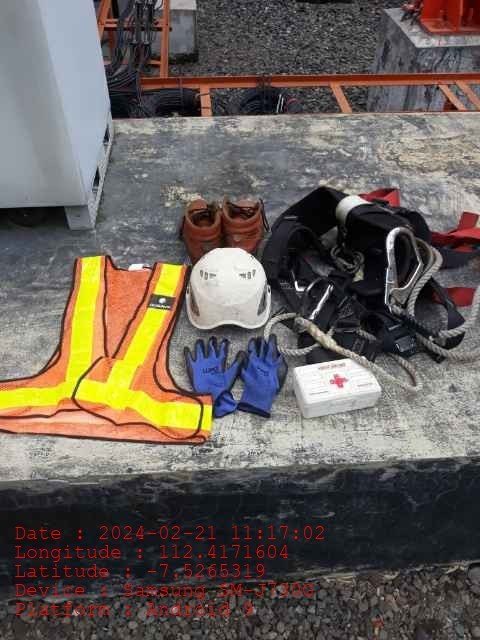HELM: (185, 248, 271, 330)
ROMPI: (1, 254, 185, 446)
SARUNG_TANGAN: (183, 337, 245, 419), (238, 333, 289, 419)
